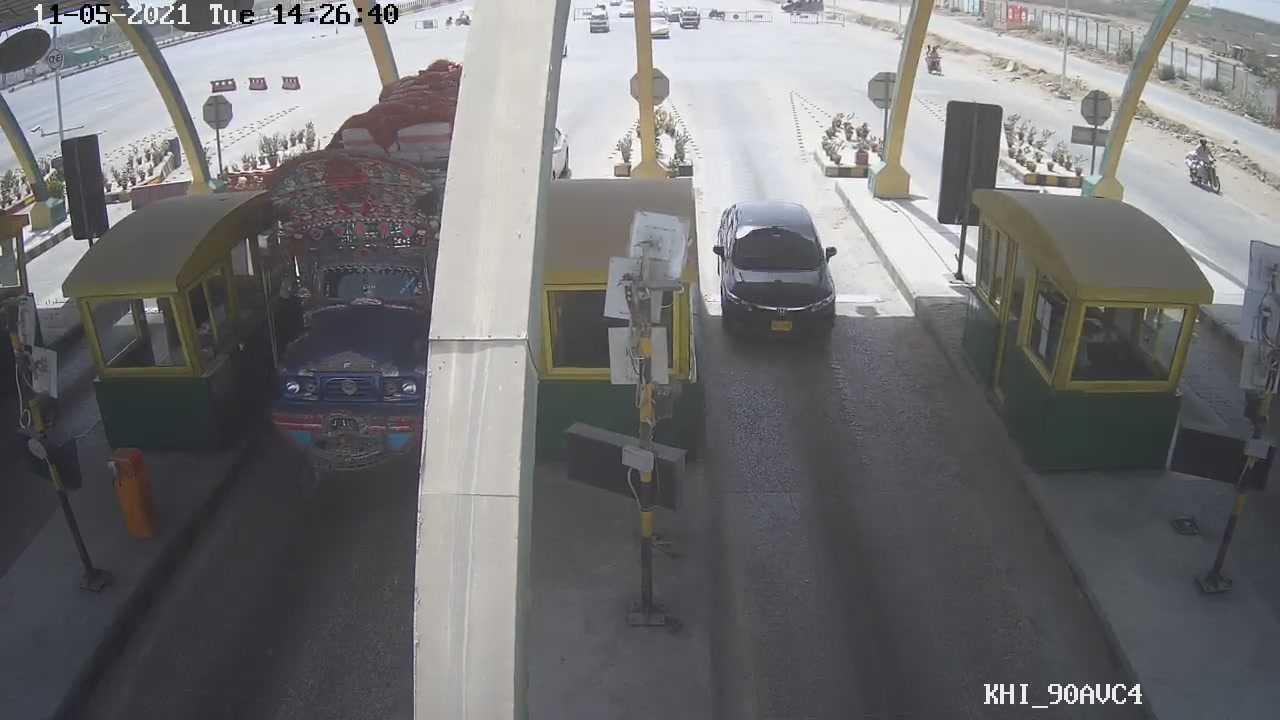F1: (692, 190, 867, 354)
